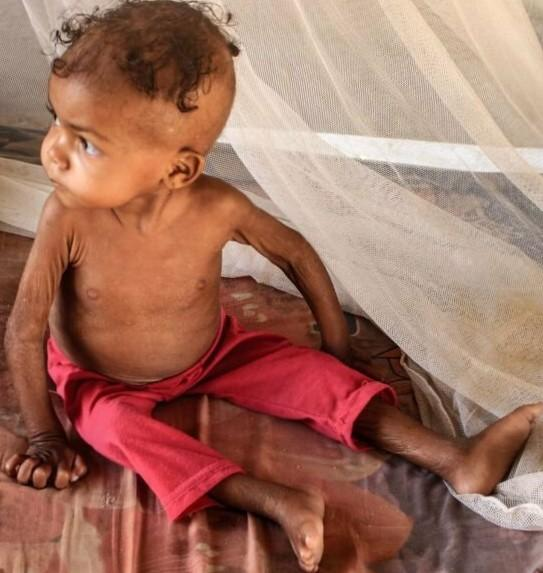Stunting: (0, 19, 266, 227)
